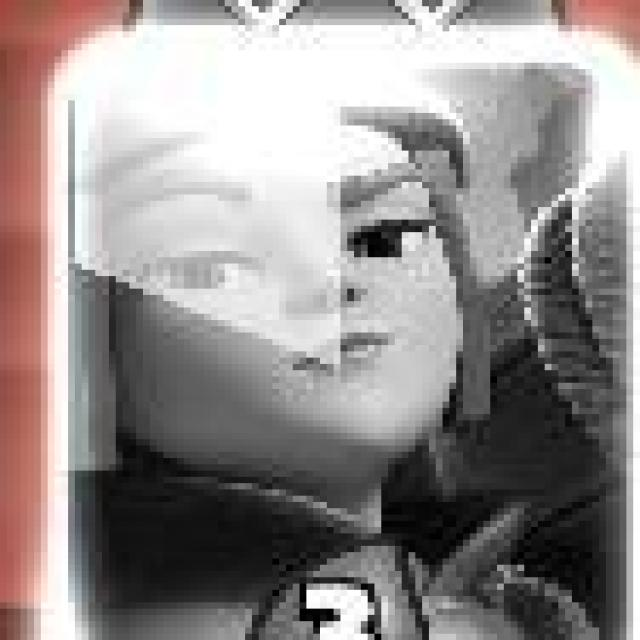Evolved_Firecracker: (49, 34, 635, 640)
